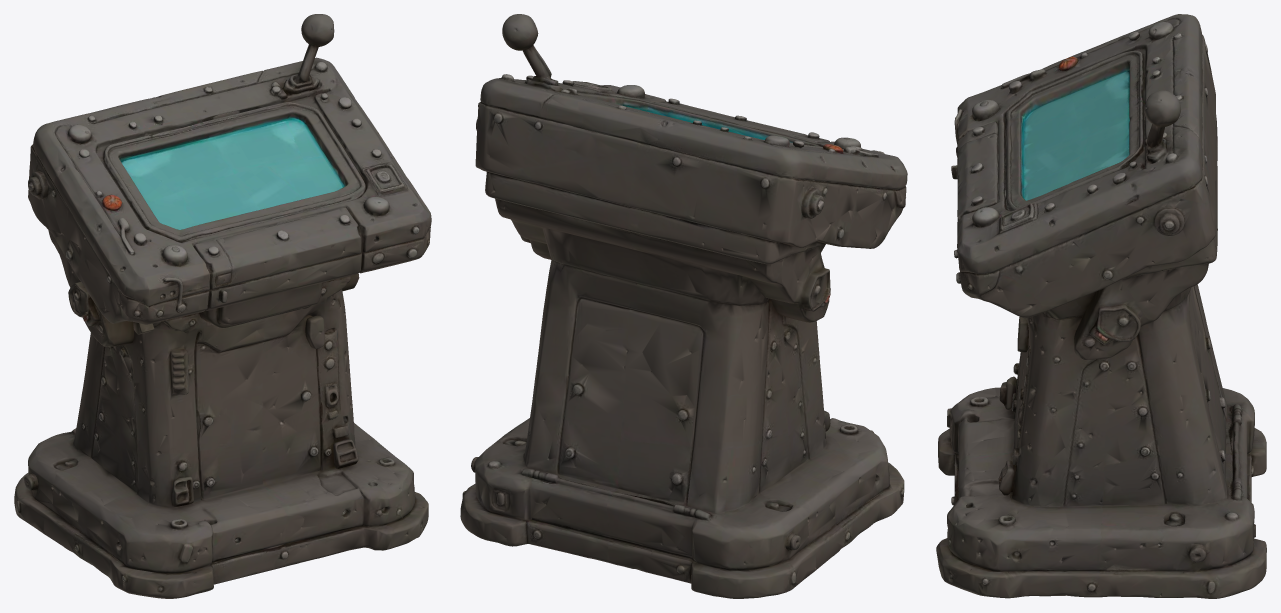
File: core-2.glb
The picture shows the model from 3 angles, left to right: view 1: azimuth 30°, elevation 25°; view 2: azimuth 150°, elevation 25°; view 3: azimuth 270°, elevation 25°; orthographic projection. The views are drawn at different scales.
Parts seen in each view (by area): view 1: tripo_node_cdc71a29-a91b-4d3a-afff-ba0ef62835ef; view 2: tripo_node_cdc71a29-a91b-4d3a-afff-ba0ef62835ef; view 3: tripo_node_cdc71a29-a91b-4d3a-afff-ba0ef62835ef.
Boxes of the visible parts, left/top/right/bottom form: tripo_node_cdc71a29-a91b-4d3a-afff-ba0ef62835ef: left=14, top=14, right=431, bottom=598; tripo_node_cdc71a29-a91b-4d3a-afff-ba0ef62835ef: left=460, top=14, right=907, bottom=598; tripo_node_cdc71a29-a91b-4d3a-afff-ba0ef62835ef: left=936, top=14, right=1266, bottom=598.
Size of the model in its own units: 0.7427 by 1 by 0.6085.
Materials: 1 (1 with a texture image).
